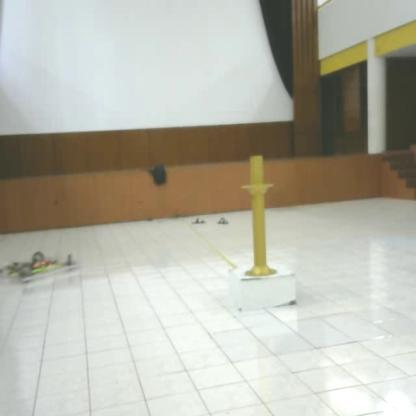pole: (243, 155, 280, 283)
